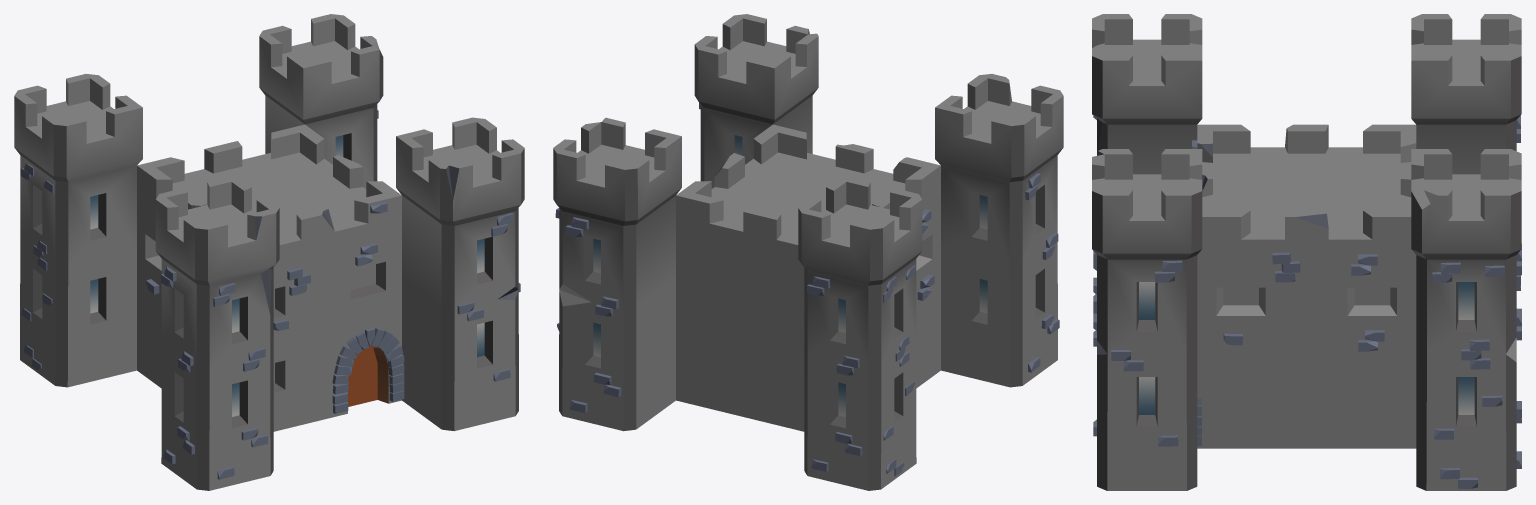
File: Level3_StoneCastle.fbx
The picture shows the model from 3 angles, left to right: view 1: azimuth 30°, elevation 25°; view 2: azimuth 150°, elevation 25°; view 3: azimuth 270°, elevation 25°; orthographic projection. The views are drawn at different scales.
Parts seen in each view (by area): view 1: Cube.012; view 2: Cube.012; view 3: Cube.012.
Boxes of the visible parts, x1,y1,x2,y2 form: Cube.012: (14, 14, 524, 490); Cube.012: (553, 14, 1063, 490); Cube.012: (1092, 14, 1521, 490).
Bounding box in the file's own units: 2355 × 1800 × 2357.
